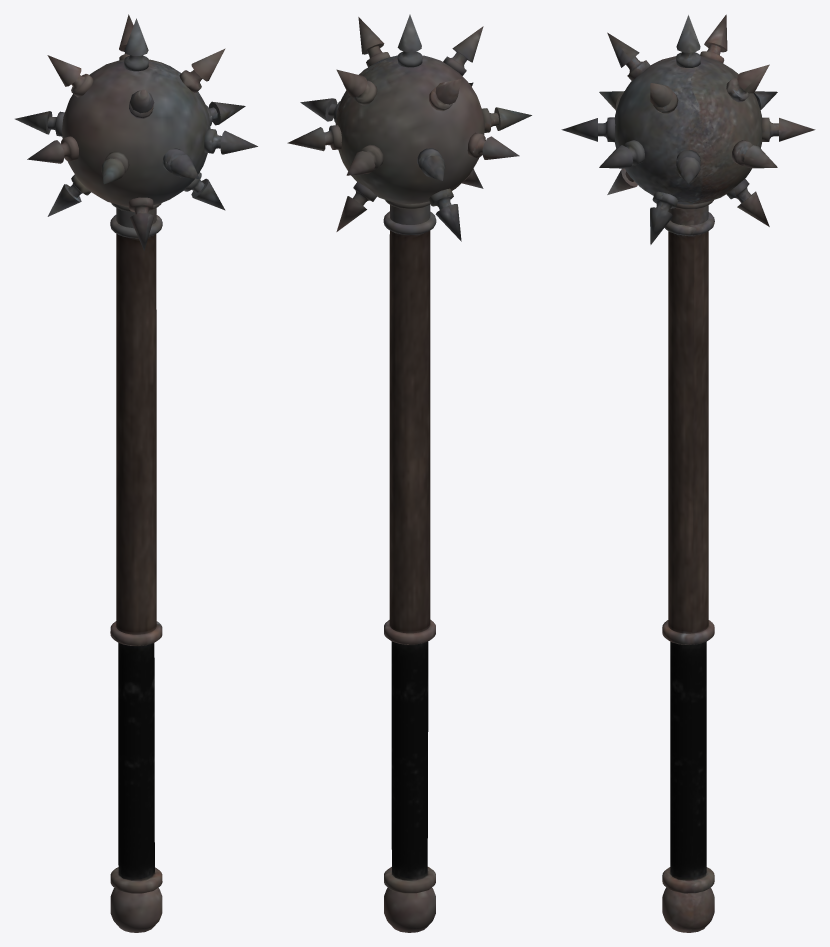
Rendered from morning-star.glb.
The picture shows the model from 3 angles, left to right: view 1: azimuth 30°, elevation 25°; view 2: azimuth 150°, elevation 25°; view 3: azimuth 270°, elevation 25°; orthographic projection.
Parts seen in each view (by area): view 1: Morning Star; view 2: Morning Star; view 3: Morning Star.
Part boxes in pixels (x1=…): Morning Star: x1=15, y1=14, x2=257, y2=932; Morning Star: x1=287, y1=14, x2=531, y2=932; Morning Star: x1=561, y1=14, x2=815, y2=932.
Bounding box in the file's own units: 0.2528 × 1 × 0.2528.
1 material, 1 textured.
